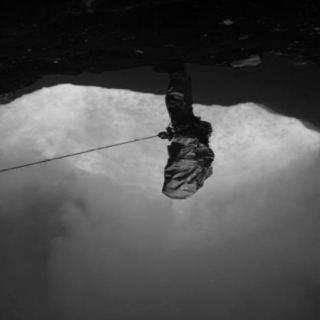Smoke: (15, 182, 298, 300)
